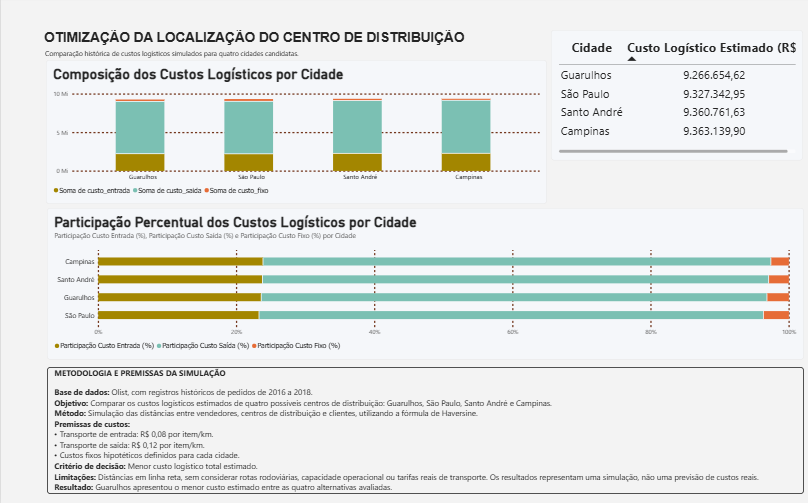

The dashboard page shown, as its layout file describes it:
{"tool":"powerbi","page":{"name":"Otimização Histórica e Metodologia","canvas":[1920,1200],"ordinal":2},"visuals":[{"type":"tableEx","fields":{"Values":["raw resultado_otimizacao.Cidade Formatada","Sum(raw resultado_otimizacao.custo_total)"]},"box":[1242.5,80,645,292.5],"z":0},{"type":"textbox","box":[102.5,80,1032.5,47.5],"z":1000},{"type":"textbox","box":[104,126,616,50],"z":2000},{"type":"columnChart","title":"Composição dos Custos Logísticos por Cidade","fields":{"Category":["raw resultado_otimizacao.Cidade Formatada"],"Y":["Sum(raw resultado_otimizacao.custo_entrada)","Sum(raw resultado_otimizacao.custo_saida)","Sum(raw resultado_otimizacao.custo_fixo)"]},"box":[102.9,150,1122.9,327.1],"z":3000},{"type":"hundredPercentStackedBarChart","title":"Participação Percentual dos Custos Logísticos por Cidade","fields":{"Category":["raw resultado_cenarios.Cidade Formatada"],"Y":["raw clientes.Participação Custo Entrada (%)","raw resultado_otimizacao.Participação Custo Saída (%)","raw clientes.Participação Custo Fixo (%)"]},"box":[107.5,477.5,1780,370],"z":4000},{"type":"textbox","box":[107.5,867.5,1780,300],"z":5000}]}

Visuals, with their boxes in screenshot pixels (x1, y1, x2, y2), scaled from the page's 1920x1200 canvas onto the 808x503 screenshot:
tableEx - raw resultado_otimizacao.Cidade Formatada x Sum(raw resultado_otimizacao.custo_total): {"left": 523, "top": 34, "right": 794, "bottom": 156}
textbox: {"left": 43, "top": 34, "right": 478, "bottom": 53}
textbox: {"left": 44, "top": 53, "right": 303, "bottom": 74}
"Composição dos Custos Logísticos por Cidade" columnChart: {"left": 43, "top": 63, "right": 516, "bottom": 200}
"Participação Percentual dos Custos Logísticos por Cidade" hundredPercentStackedBarChart: {"left": 45, "top": 200, "right": 794, "bottom": 355}
textbox: {"left": 45, "top": 364, "right": 794, "bottom": 489}
